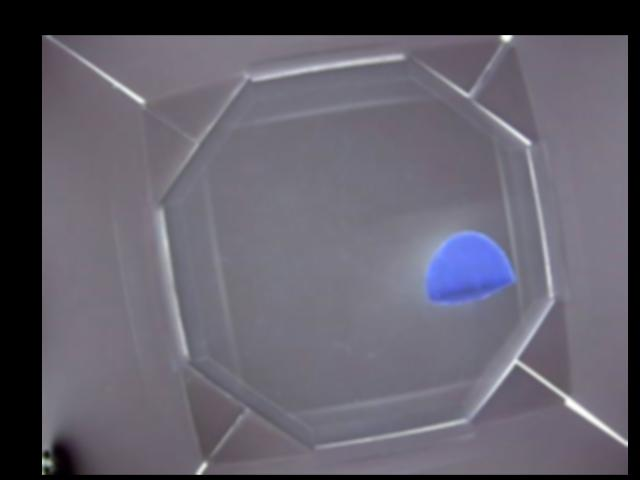Potato: (427, 231, 513, 302)
